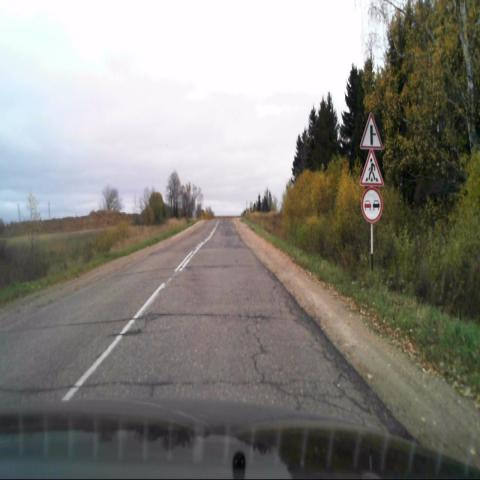1_22: (359, 149, 384, 187)
